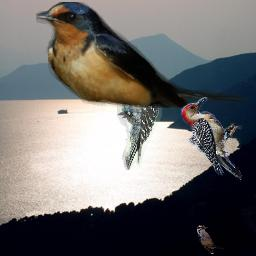Swallow: (36, 2, 251, 109)
Woodpecker: (117, 51, 162, 170), (181, 97, 242, 180), (197, 225, 224, 254)
